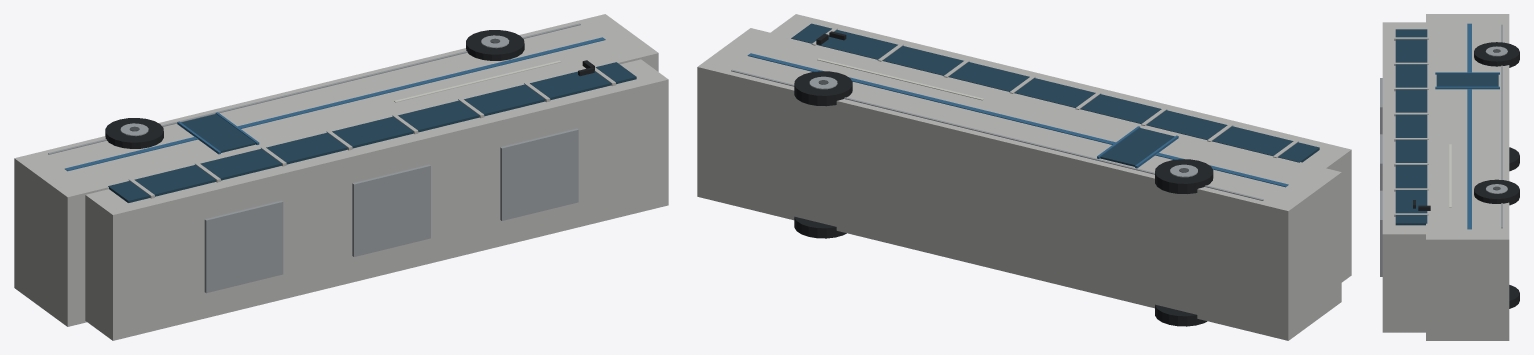
File: RM_Bus_29.glb
3 renders of one model, left to right at view 1: azimuth 30°, elevation 25°; view 2: azimuth 150°, elevation 25°; view 3: azimuth 270°, elevation 25°, orthographic. The views are drawn at different scales.
Visible parts, largest first — view 1: part_001, part_000, part_002, part_037, part_038, part_039, part_013, part_040, part_024, part_030, part_014; view 2: part_000, part_002, part_001, part_013, part_040, part_024, part_030, part_014, part_027, part_021; view 3: part_000, part_001, part_002, part_013, part_040, part_024, part_030, part_014, part_039, part_042, part_021, part_027 (+6 smaller).
Part boxes in pixels (x1=…): part_001: x1=85, y1=59, x2=668, y2=340; part_000: x1=14, y1=14, x2=658, y2=326; part_002: x1=108, y1=62, x2=636, y2=202; part_037: x1=204, y1=200, x2=283, y2=293; part_038: x1=352, y1=164, x2=430, y2=256; part_039: x1=500, y1=128, x2=578, y2=220; part_013: x1=65, y1=37, x2=605, y2=171; part_040: x1=181, y1=114, x2=255, y2=152; part_024: x1=105, y1=118, x2=163, y2=148; part_030: x1=466, y1=30, x2=524, y2=60; part_014: x1=48, y1=23, x2=580, y2=154; part_000: x1=697, y1=28, x2=1341, y2=340; part_002: x1=791, y1=23, x2=1319, y2=162; part_001: x1=770, y1=14, x2=1351, y2=282; part_013: x1=747, y1=53, x2=1288, y2=187; part_040: x1=1100, y1=128, x2=1174, y2=166; part_024: x1=1155, y1=159, x2=1213, y2=193; part_030: x1=794, y1=71, x2=852, y2=106; part_014: x1=731, y1=69, x2=1263, y2=200; part_027: x1=794, y1=216, x2=846, y2=238; part_021: x1=1155, y1=304, x2=1207, y2=326; part_000: x1=1426, y1=14, x2=1509, y2=340; part_001: x1=1382, y1=22, x2=1425, y2=332; part_002: x1=1395, y1=29, x2=1427, y2=225; part_013: x1=1467, y1=23, x2=1471, y2=229; part_040: x1=1436, y1=73, x2=1498, y2=86; part_024: x1=1474, y1=42, x2=1519, y2=67; part_030: x1=1474, y1=179, x2=1519, y2=205; part_014: x1=1501, y1=24, x2=1502, y2=228; part_039: x1=1380, y1=190, x2=1382, y2=276; part_042: x1=1435, y1=86, x2=1499, y2=89; part_021: x1=1509, y1=147, x2=1519, y2=171; part_027: x1=1509, y1=285, x2=1519, y2=308.
Bounding box in the file's own units: 12.06 × 2.85 × 3.16.
